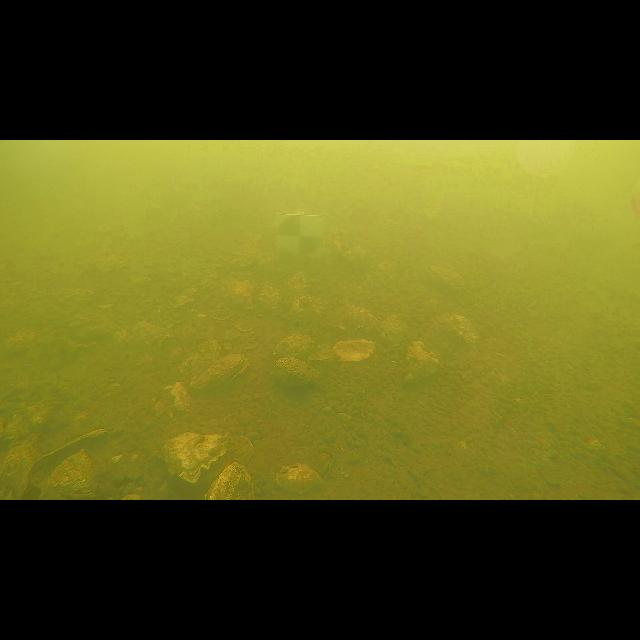Oyster-Closed: (37, 446, 105, 500), (165, 432, 232, 482), (187, 352, 245, 394), (0, 444, 39, 500), (177, 337, 223, 381), (426, 314, 479, 352), (205, 462, 255, 500), (404, 340, 441, 381), (275, 356, 320, 388), (276, 464, 324, 494), (425, 265, 469, 295), (272, 334, 318, 358), (289, 296, 322, 325), (92, 248, 128, 274), (224, 280, 254, 310), (58, 288, 98, 309), (348, 306, 380, 332), (6, 329, 38, 352), (381, 315, 406, 342), (259, 285, 281, 315), (288, 272, 309, 301)
Oyster-Open: (309, 339, 375, 361)
